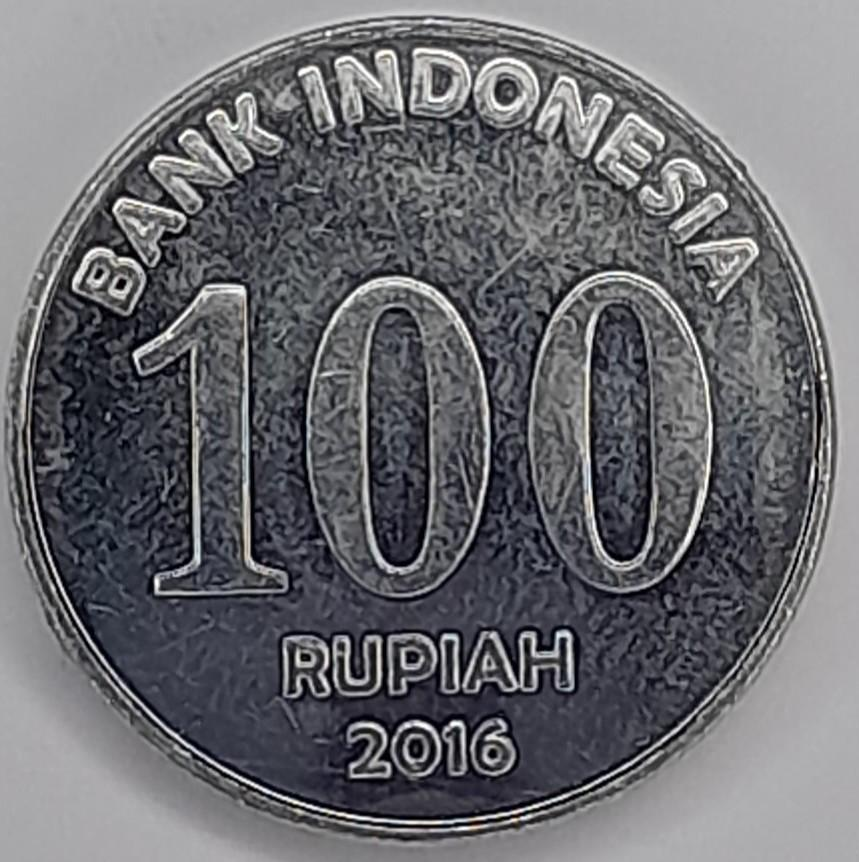coin_100_e2016: (1, 7, 842, 844)
